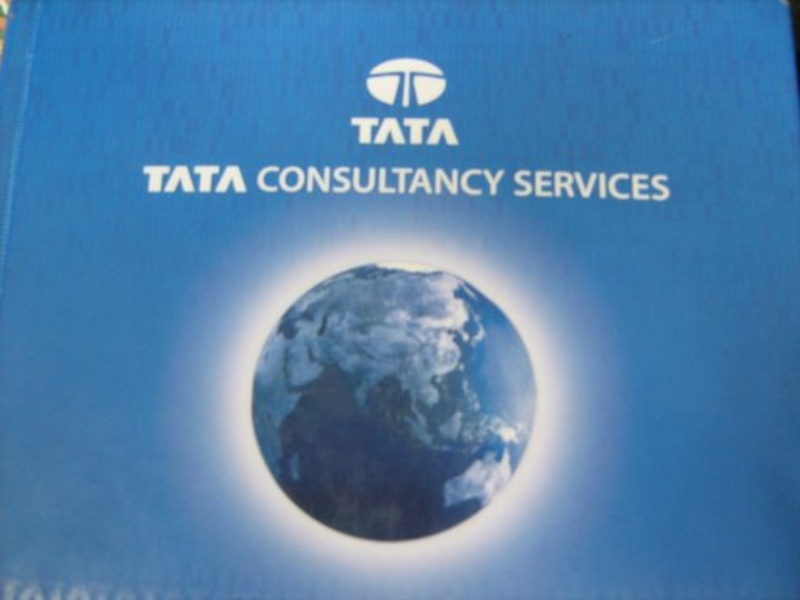tcs: (364, 56, 450, 109)
